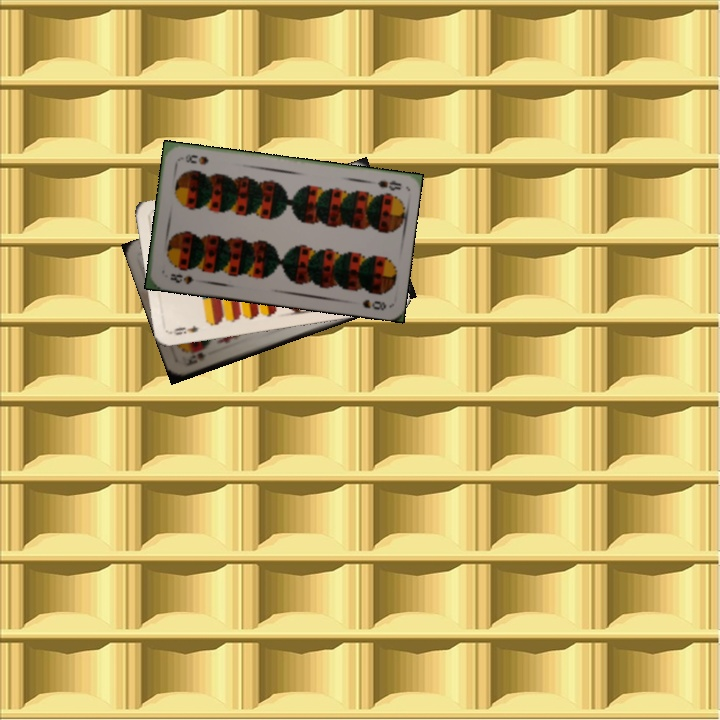E9: (167, 322, 201, 337)
S8: (373, 176, 404, 193), (166, 270, 196, 287)
SK: (181, 348, 208, 369)
